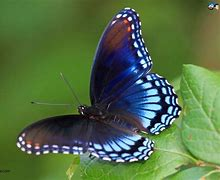insect: (15, 6, 181, 161)
